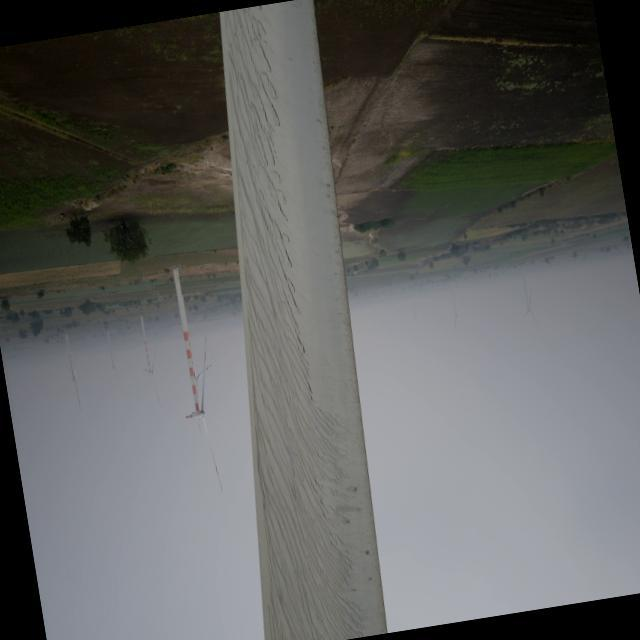Dirt: (221, 12, 374, 640)
